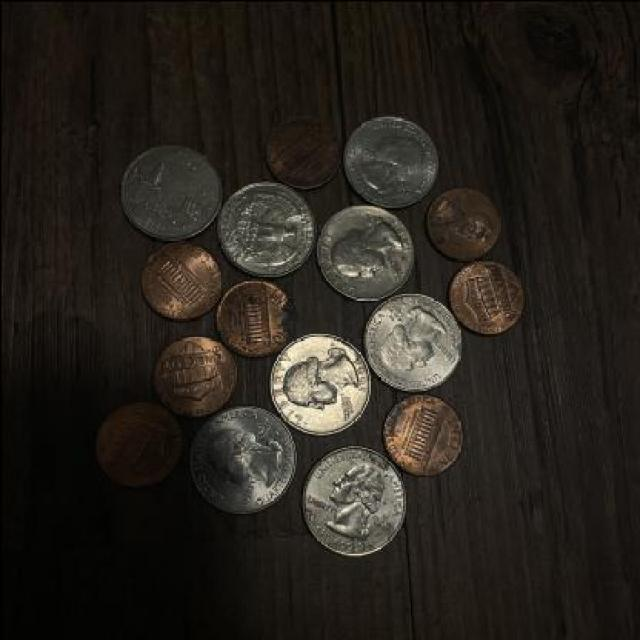Penny: (91, 398, 180, 486), (380, 390, 463, 476), (136, 238, 222, 317), (152, 332, 238, 410), (214, 275, 294, 357), (423, 185, 502, 266), (260, 110, 338, 188), (443, 260, 523, 334)
Quarter: (186, 403, 297, 514), (303, 443, 405, 557), (114, 138, 223, 244), (270, 329, 370, 437), (363, 290, 462, 392), (317, 198, 412, 302), (340, 111, 438, 211), (216, 178, 312, 277)
